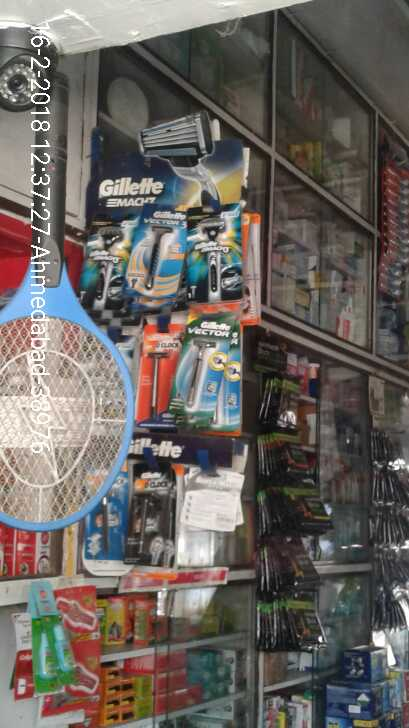gillette: (181, 308, 251, 429), (125, 465, 182, 572), (190, 200, 248, 297), (82, 218, 133, 314), (132, 199, 181, 298)
